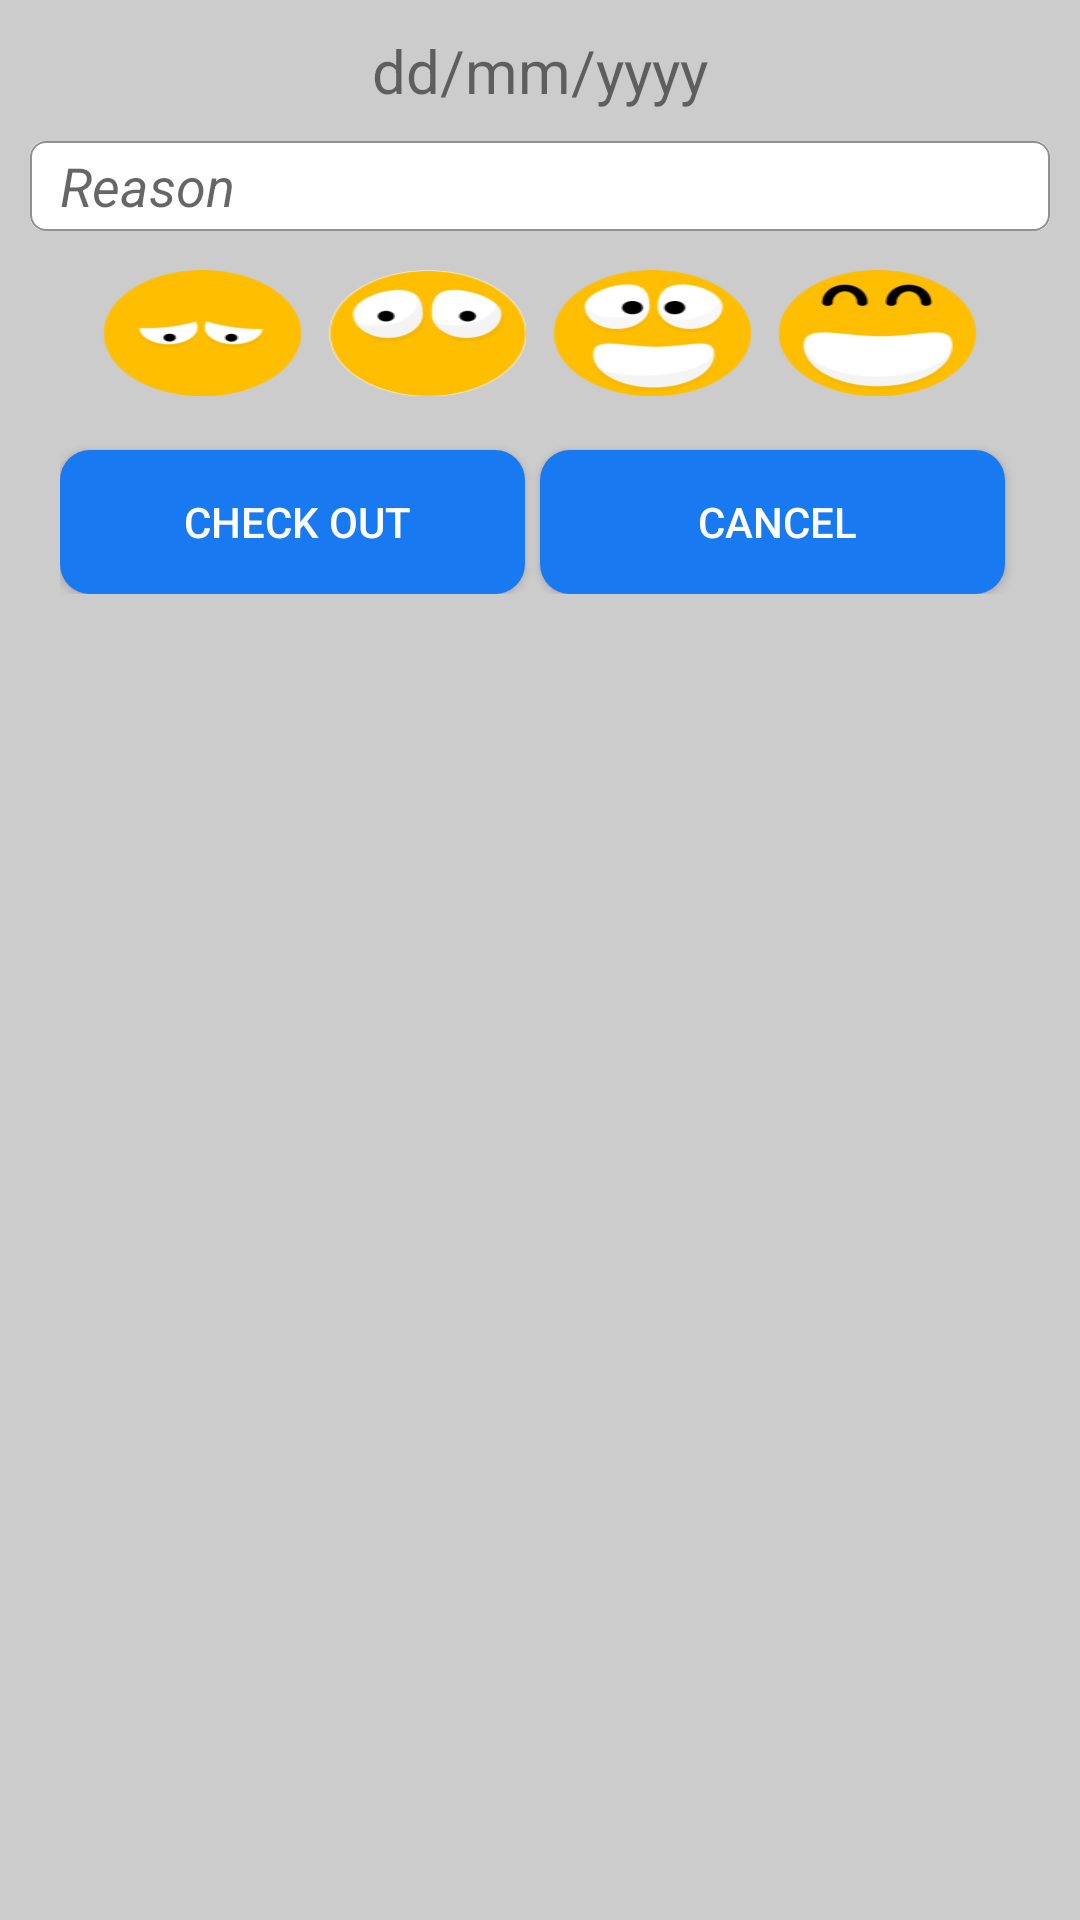

Named icons in this screenshot (1080 × 1920) and their bounding boxes, (x1, y1, x2, y2):
happy: (553, 270, 752, 396)
sosad: (103, 270, 302, 396)
veryhappy: (778, 270, 977, 396)
